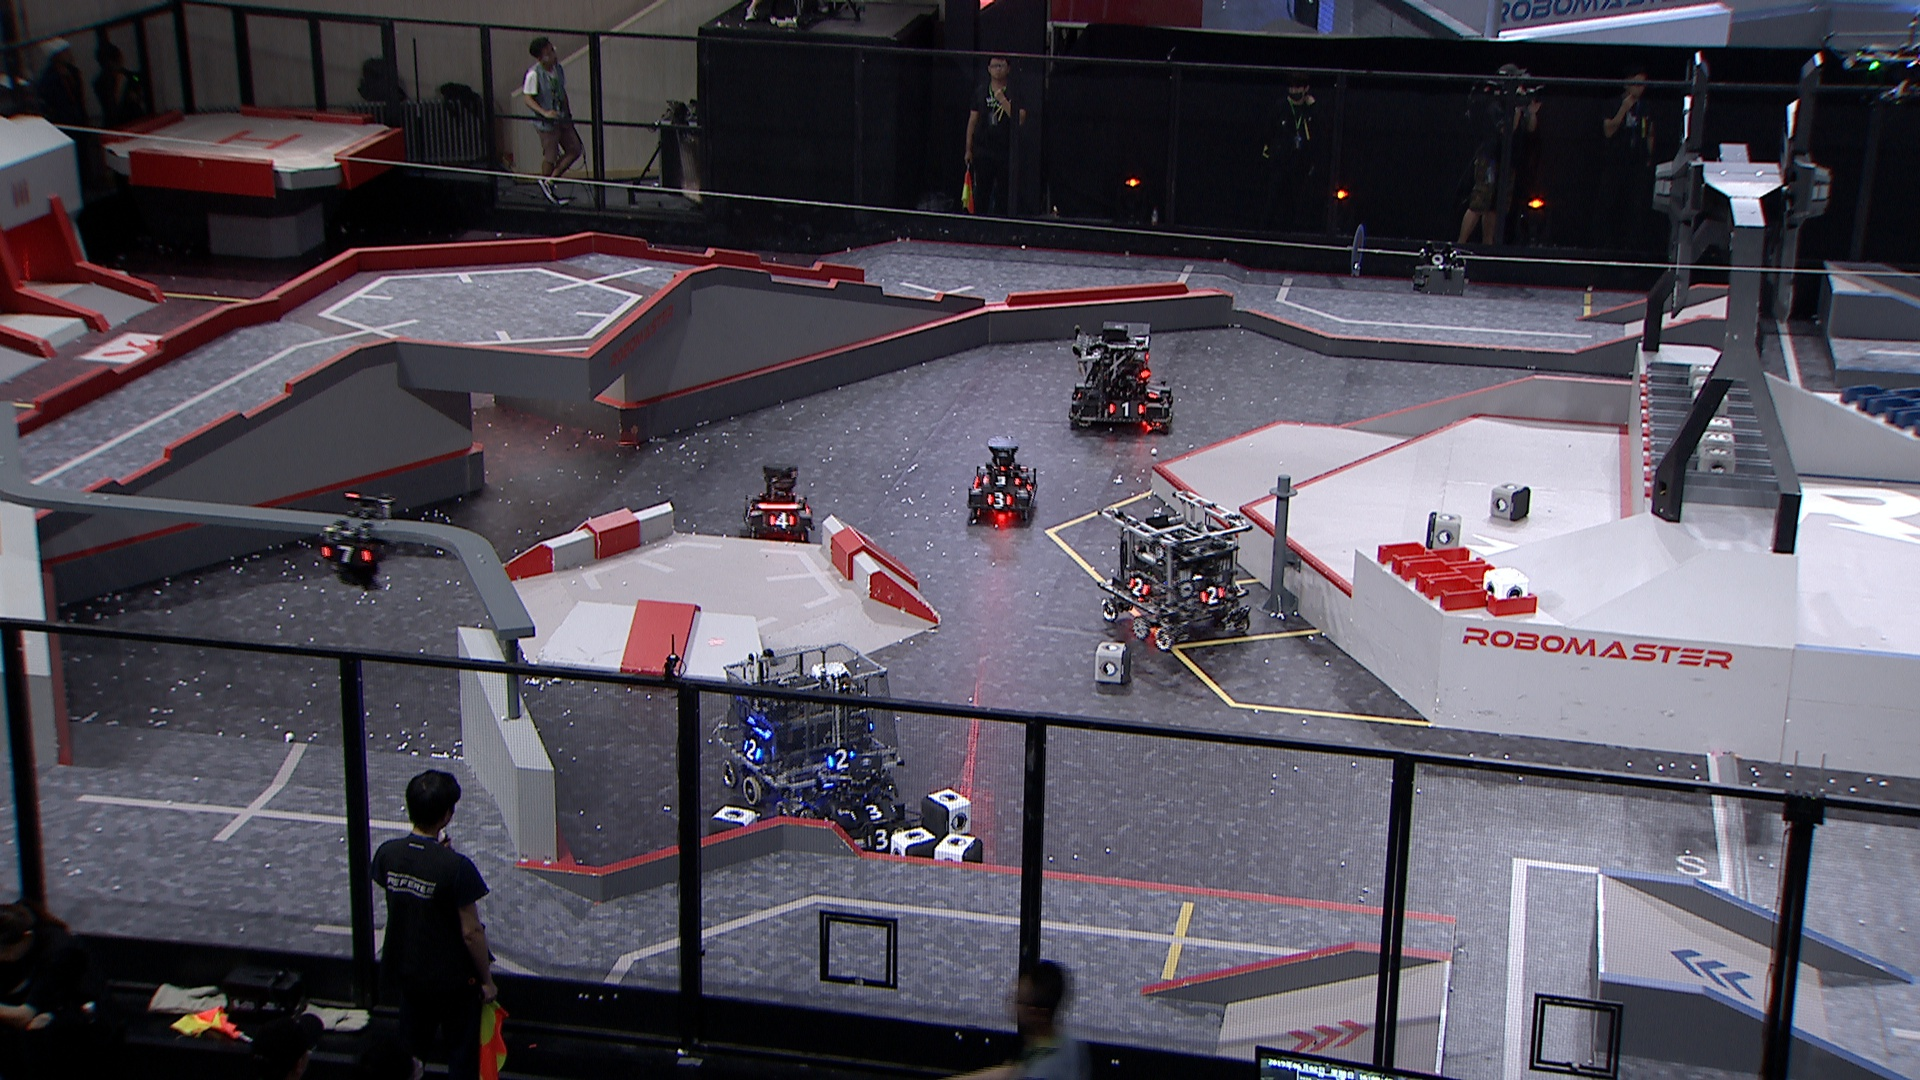armor: (855, 800, 898, 822), (323, 546, 372, 564), (866, 831, 897, 855), (1106, 398, 1145, 417), (825, 750, 856, 770), (737, 737, 760, 760), (1200, 585, 1224, 604), (988, 493, 1015, 508), (1126, 578, 1149, 595), (988, 473, 1011, 488), (771, 514, 795, 529), (1147, 381, 1159, 404), (742, 498, 756, 518)
car: (712, 645, 902, 825), (1096, 484, 1251, 651), (1069, 320, 1178, 433), (829, 782, 926, 880), (740, 458, 818, 546), (964, 436, 1040, 526)
watcher: (313, 487, 401, 595)
